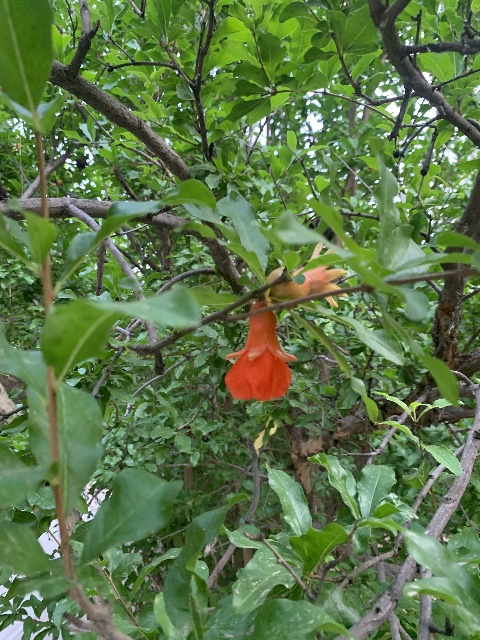early-fruit: (266, 242, 347, 308)
flower: (224, 302, 296, 401)
